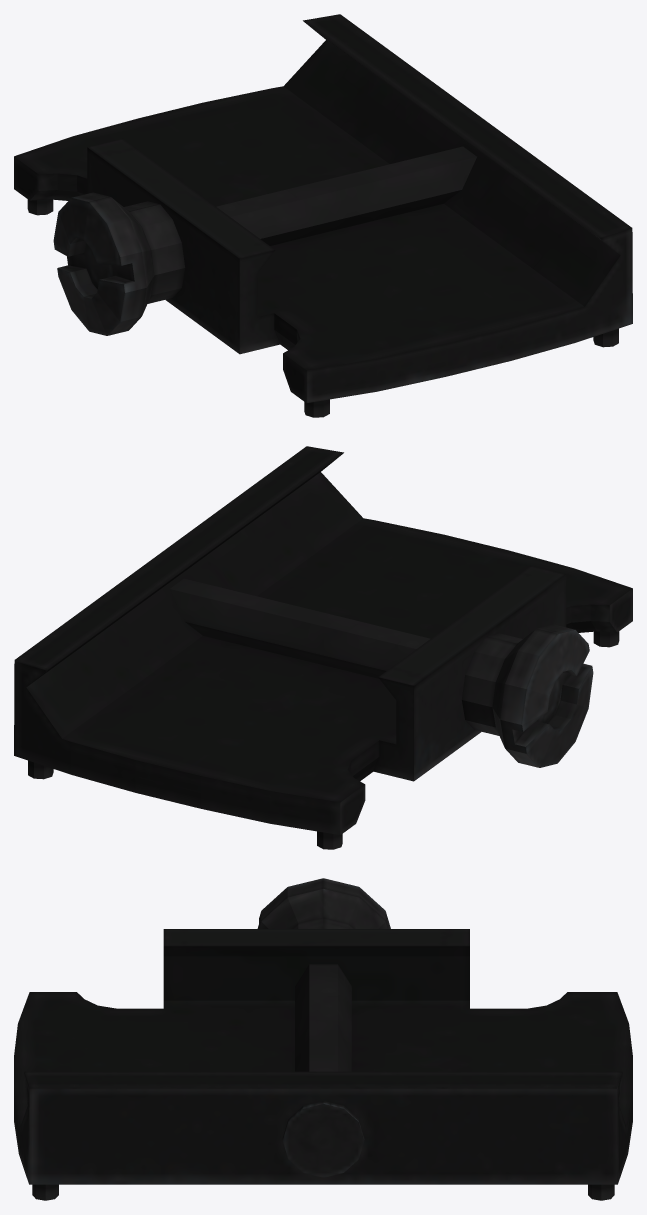
The picture shows the model from 3 angles, top to bottom: view 1: azimuth 30°, elevation 25°; view 2: azimuth 150°, elevation 25°; view 3: azimuth 270°, elevation 25°; orthographic projection.
Parts seen in each view (by area): view 1: TW_577d128124597739d65d0e56_PZ_Import; view 2: TW_577d128124597739d65d0e56_PZ_Import; view 3: TW_577d128124597739d65d0e56_PZ_Import.
Part boxes in pixels (<box>): TW_577d128124597739d65d0e56_PZ_Import: <box>14,14,632,417</box>; TW_577d128124597739d65d0e56_PZ_Import: <box>14,446,632,849</box>; TW_577d128124597739d65d0e56_PZ_Import: <box>14,878,632,1200</box>.
Bounding box in the file's own units: 0.0172 × 0.0225 × 0.00526.
1 material, 1 textured.
